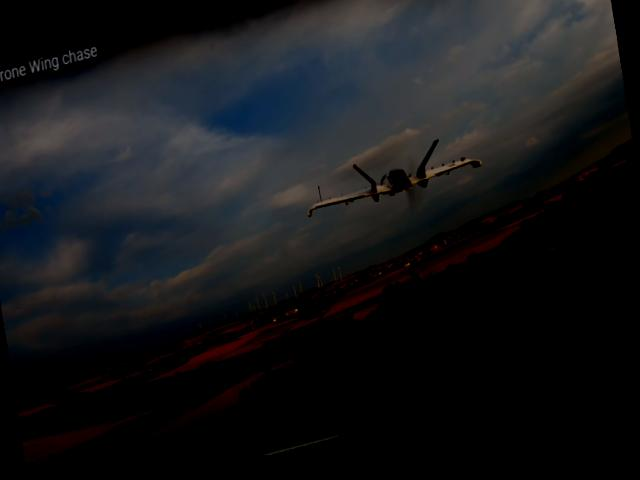plane: (303, 137, 485, 227)
